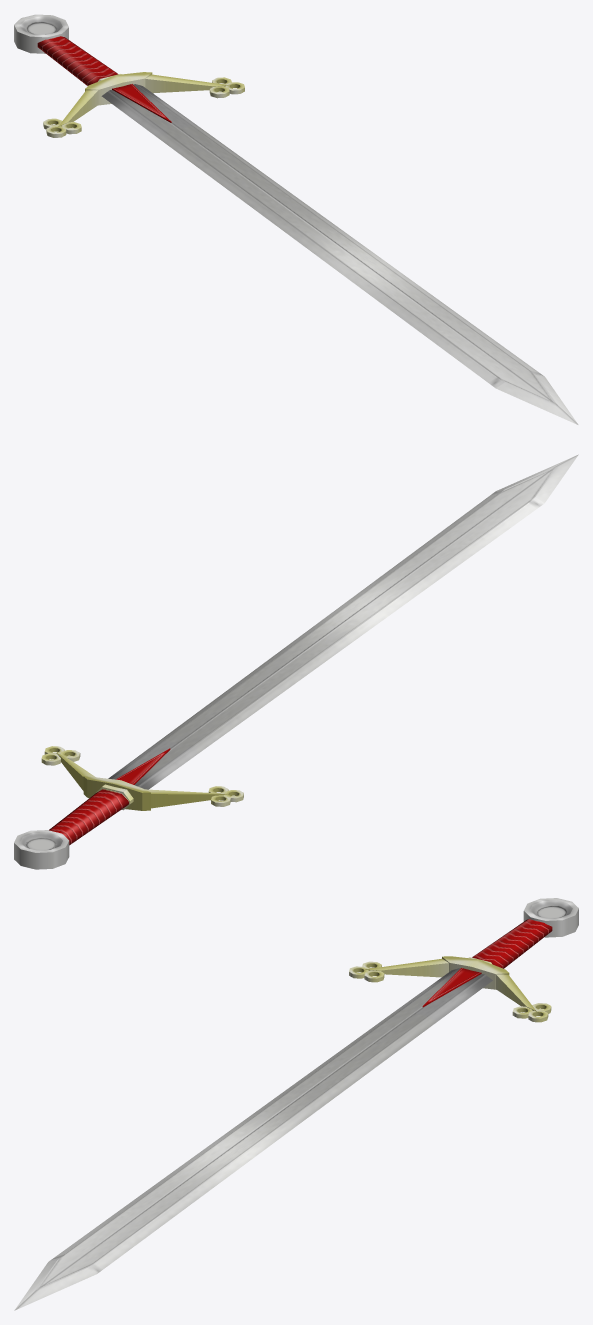
File: MagicBlade.FBX
3 views of the same model, one above another, from view 1: azimuth 30°, elevation 25°; view 2: azimuth 150°, elevation 25°; view 3: azimuth 330°, elevation 25° (orthographic).
Visible parts, largest first — view 1: MagicBlade; view 2: MagicBlade; view 3: MagicBlade.
Boxes of the visible parts, x1=… form: MagicBlade: x1=14, y1=14, x2=578, y2=424; MagicBlade: x1=14, y1=454, x2=578, y2=869; MagicBlade: x1=14, y1=898, x2=578, y2=1310.
Bounding box in the file's own units: 2.78 × 13.45 × 0.3216.
